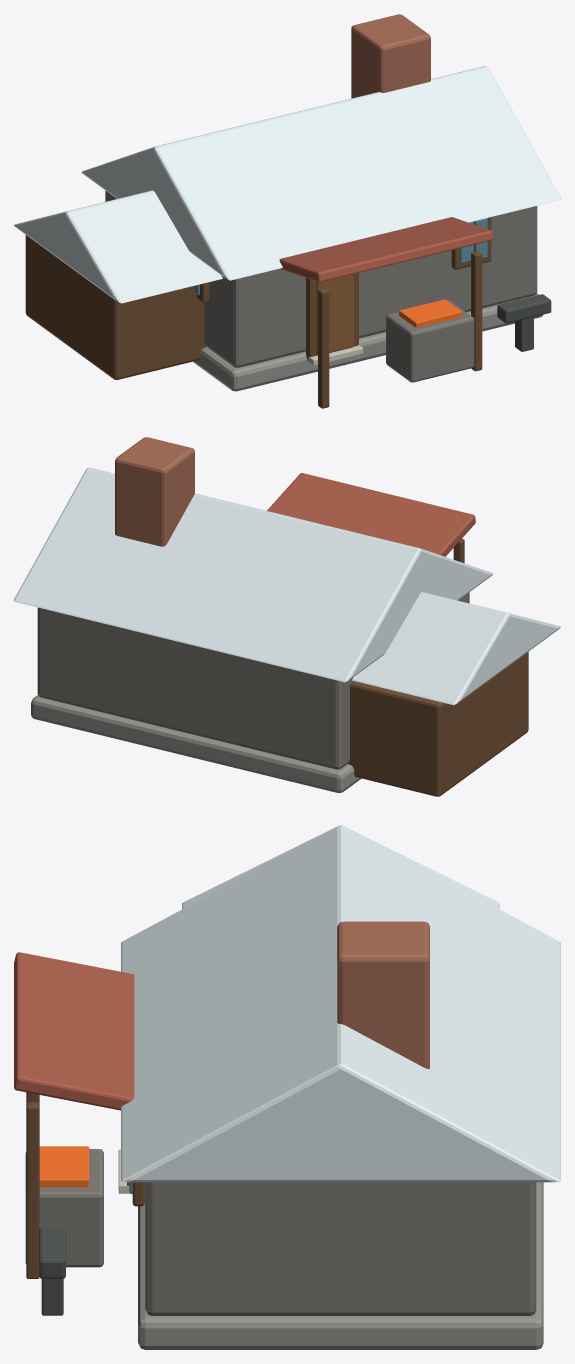
The model's file is snowy-smithy-1.glb.
The picture shows the model from 3 angles, top to bottom: view 1: azimuth 30°, elevation 25°; view 2: azimuth 150°, elevation 25°; view 3: azimuth 270°, elevation 25°; orthographic projection. The views are drawn at different scales.
Visible parts, largest first — view 1: Snow, Soot stone, Dark beams, Clay tiles, Chimney brick, Foundation stone, Door oak, Forged iron, Forge ember, Blue glass; view 2: Snow, Soot stone, Dark beams, Clay tiles, Foundation stone, Chimney brick; view 3: Snow, Soot stone, Clay tiles, Foundation stone, Chimney brick, Dark beams, Forged iron, Forge ember.
Part boxes in pixels (bbox=[...]): Snow: bbox=[14, 66, 560, 303]; Soot stone: bbox=[105, 190, 537, 382]; Dark beams: bbox=[25, 217, 491, 408]; Clay tiles: bbox=[279, 217, 493, 282]; Chimney brick: bbox=[351, 14, 430, 98]; Foundation stone: bbox=[193, 293, 542, 391]; Door oak: bbox=[316, 274, 353, 355]; Forged iron: bbox=[497, 294, 551, 351]; Forge ember: bbox=[399, 299, 462, 327]; Blue glass: bbox=[195, 218, 487, 295]; Snow: bbox=[14, 467, 560, 705]; Soot stone: bbox=[37, 592, 469, 769]; Dark beams: bbox=[348, 539, 528, 796]; Clay tiles: bbox=[267, 473, 475, 556]; Foundation stone: bbox=[31, 695, 361, 792]; Chimney brick: bbox=[115, 437, 194, 546]; Snow: bbox=[121, 825, 560, 1182]; Soot stone: bbox=[25, 1149, 536, 1315]; Clay tiles: bbox=[14, 952, 134, 1110]; Foundation stone: bbox=[138, 1182, 543, 1349]; Chimney brick: bbox=[337, 921, 429, 1069]; Dark beams: bbox=[26, 1092, 144, 1278]; Forged iron: bbox=[39, 1227, 65, 1315]; Forge ember: bbox=[39, 1146, 89, 1187].
Bounding box in the file's own units: 5.93 × 3.28 × 4.48.
